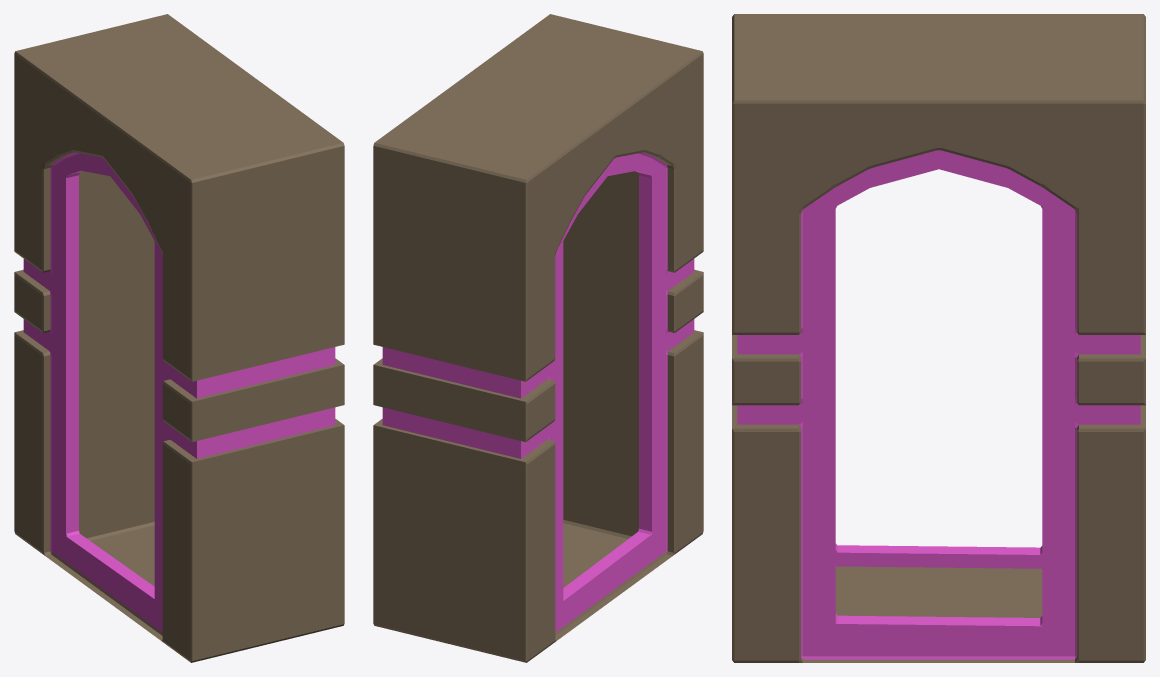
Rendered from SimuDoor.fbx.
The picture shows the model from 3 angles, left to right: view 1: azimuth 30°, elevation 25°; view 2: azimuth 150°, elevation 25°; view 3: azimuth 270°, elevation 25°; orthographic projection. The views are drawn at different scales.
Parts seen in each view (by area): view 1: OpenSimu; view 2: OpenSimu; view 3: OpenSimu.
Part boxes in pixels (x1=…): OpenSimu: x1=14, y1=14, x2=344, y2=662; OpenSimu: x1=373, y1=14, x2=703, y2=662; OpenSimu: x1=732, y1=14, x2=1145, y2=662.
Size of the model in its own units: 200 by 600 by 400.
